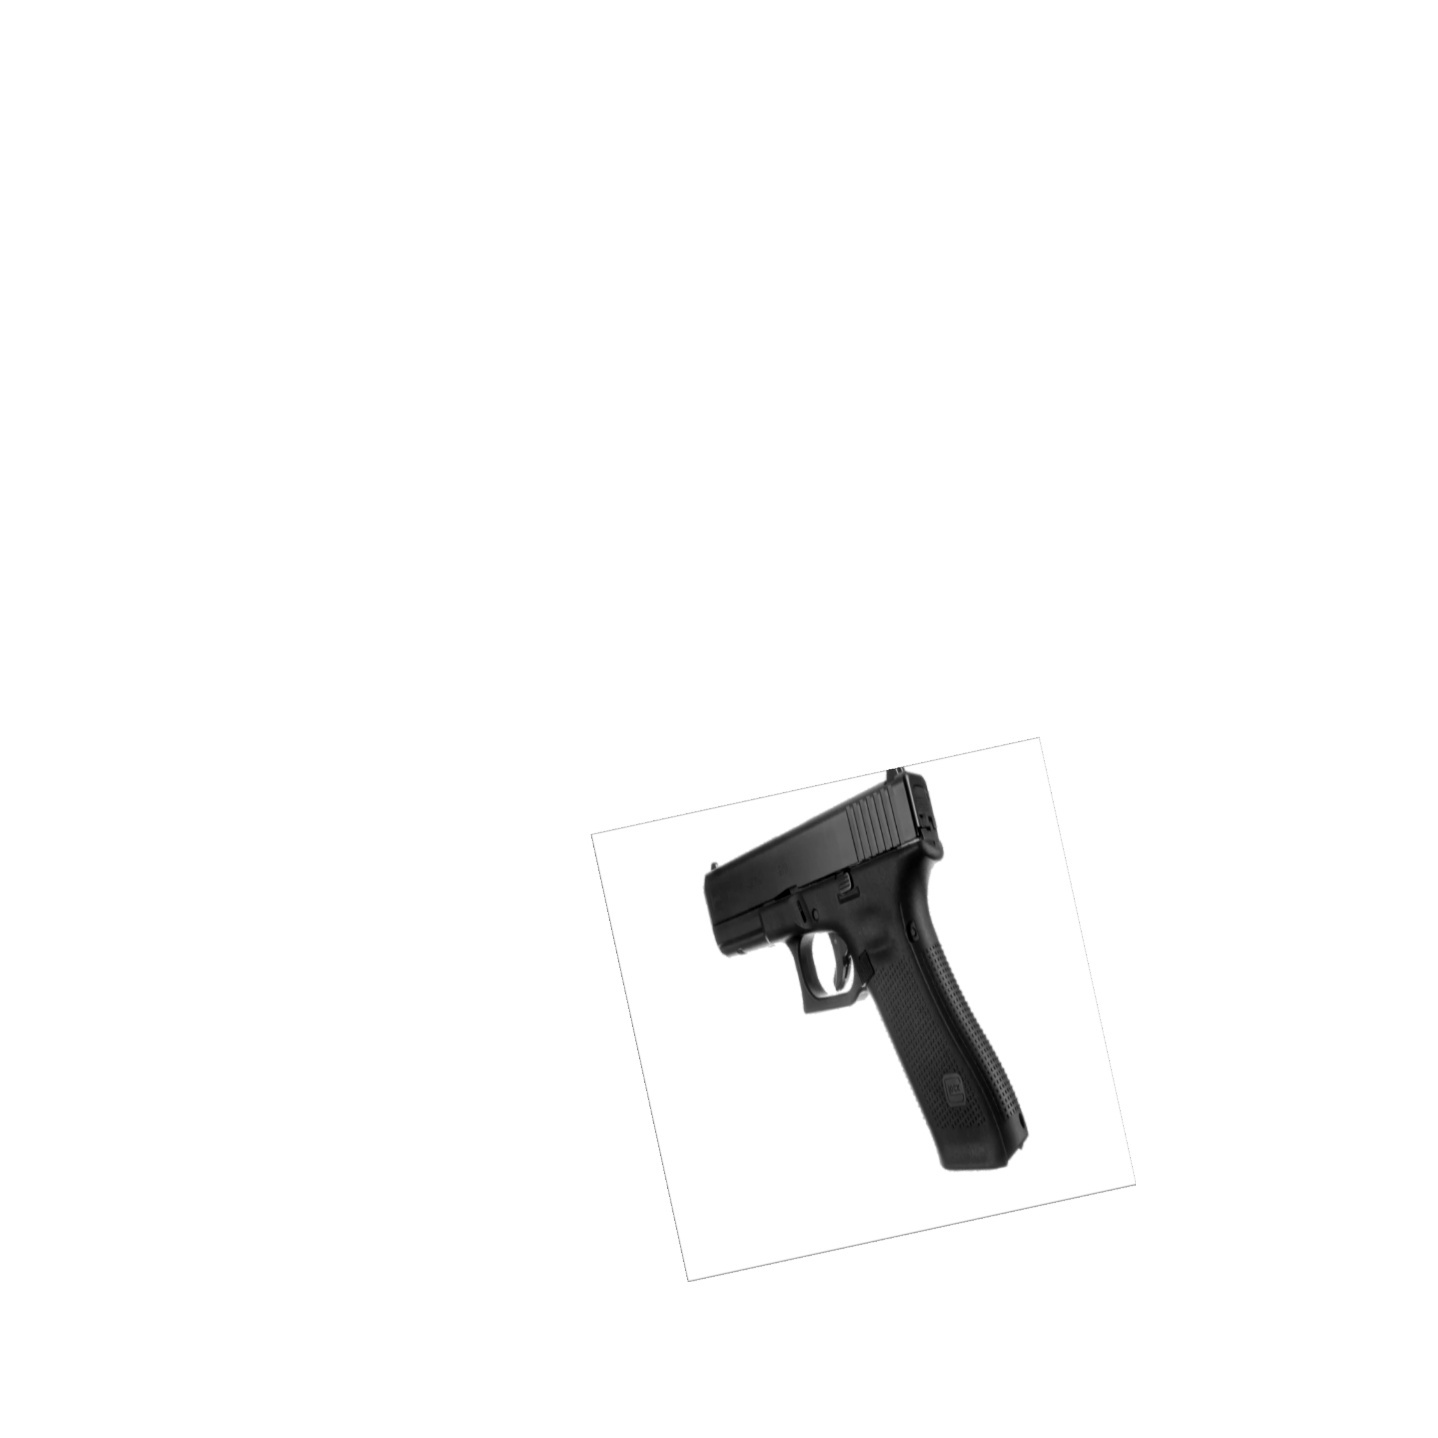gun: (705, 766, 1030, 1172)
